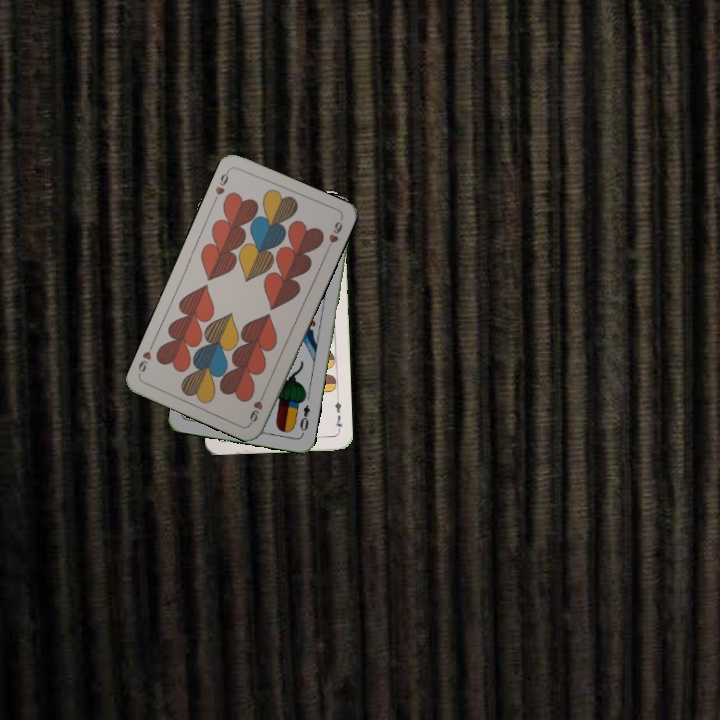E7: (331, 394, 345, 434)
EO: (296, 401, 313, 437)
H9: (246, 387, 268, 426), (210, 166, 232, 205)
